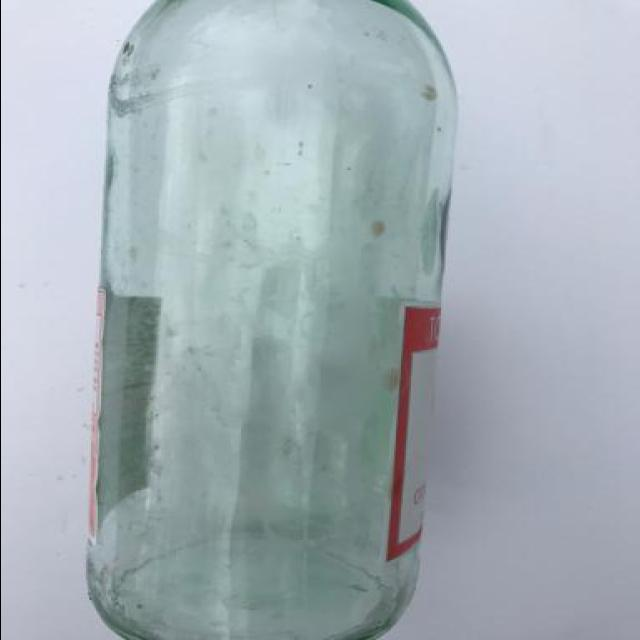glass: (82, 0, 458, 640)
